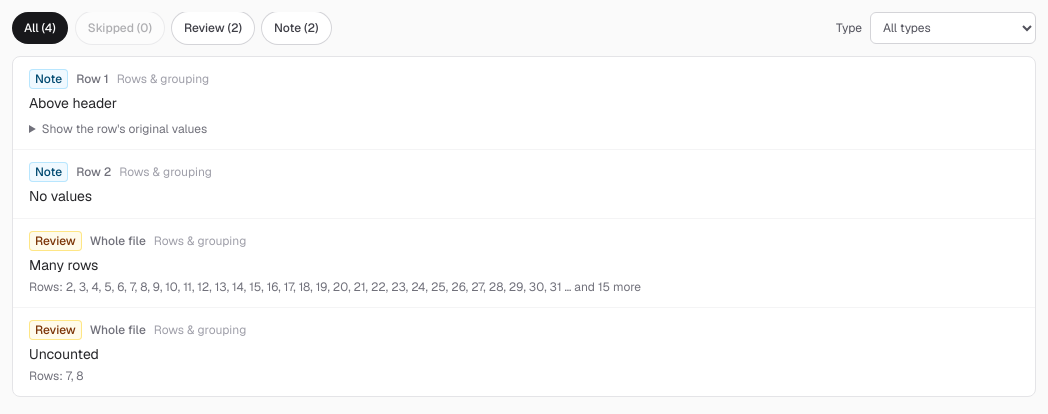
Scenario: IssueList details › labels array values as cells, skips empty value lists, and summarises long row lists
This screenshot has width=1048, height=414.
expect the number of headings "Show the row's original values" is 1: met, box x1=42 y1=121 x2=207 y2=137
expect the text "Rows: 7, 8" is shown: met, box x1=29 y1=368 x2=84 y2=384
Click the button "Note (2)" at (296, 28), box x1=262 y1=12 x2=330 y2=44
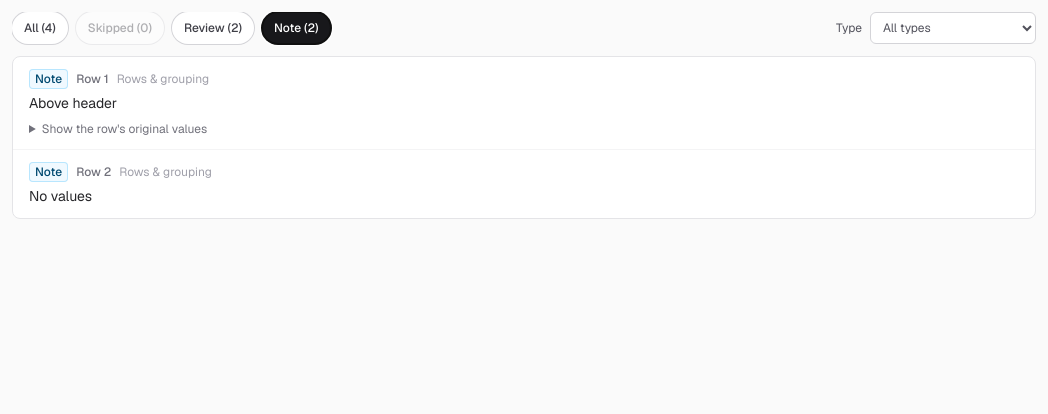
expect the number of list items is 2: met, box x1=13 y1=57 x2=1035 y2=150; x1=29 y1=162 x2=212 y2=205
Click the button "All (4)" at (40, 28), box x1=12 y1=12 x2=68 y2=44
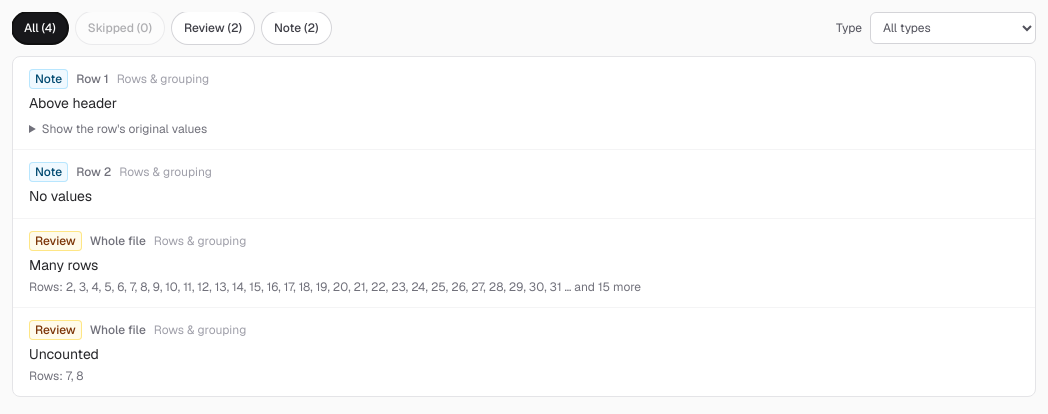
expect the number of list items is 4: met, box x1=13 y1=57 x2=1035 y2=150; x1=13 y1=150 x2=1035 y2=219; x1=13 y1=219 x2=1035 y2=308; x1=29 y1=320 x2=246 y2=384
